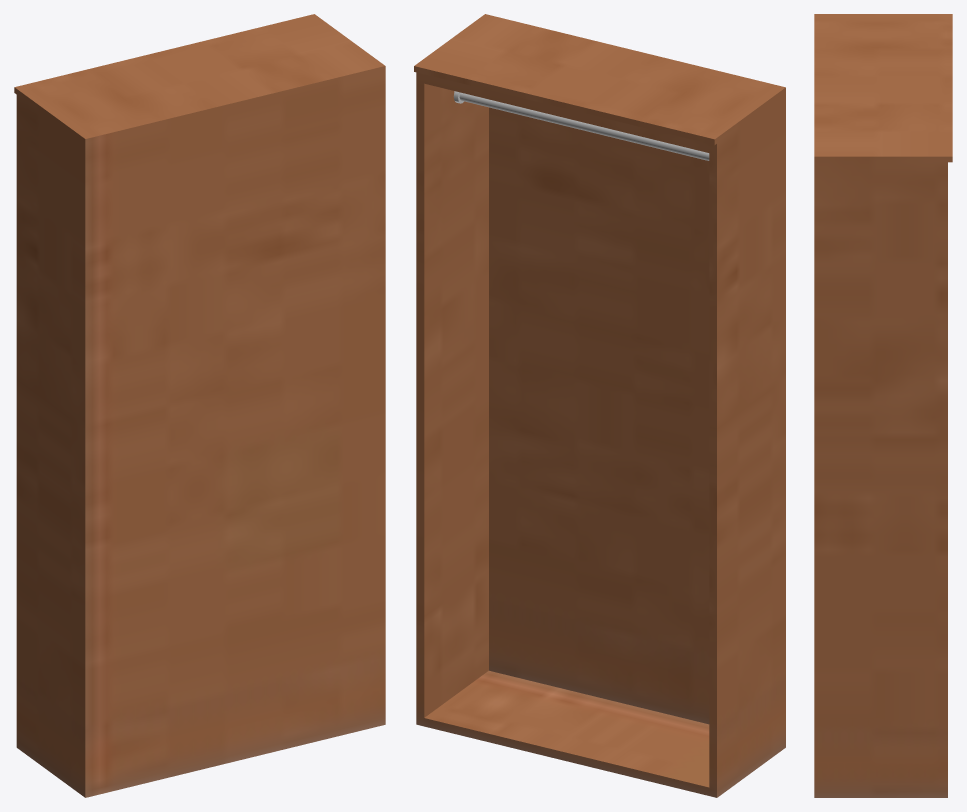
File: Closet38.glb
The picture shows the model from 3 angles, left to right: view 1: azimuth 30°, elevation 25°; view 2: azimuth 150°, elevation 25°; view 3: azimuth 270°, elevation 25°; orthographic projection. The views are drawn at different scales.
Parts seen in each view (by area): view 1: Closet38_model; view 2: Closet38_model; view 3: Closet38_model.
Boxes of the visible parts, x1,y1,x2,y2 form: Closet38_model: (14, 14, 385, 797); Closet38_model: (414, 14, 785, 797); Closet38_model: (814, 14, 952, 797).
Size of the model in its own units: 2.47 by 5.18 by 1.01.
1 material, 1 textured.
